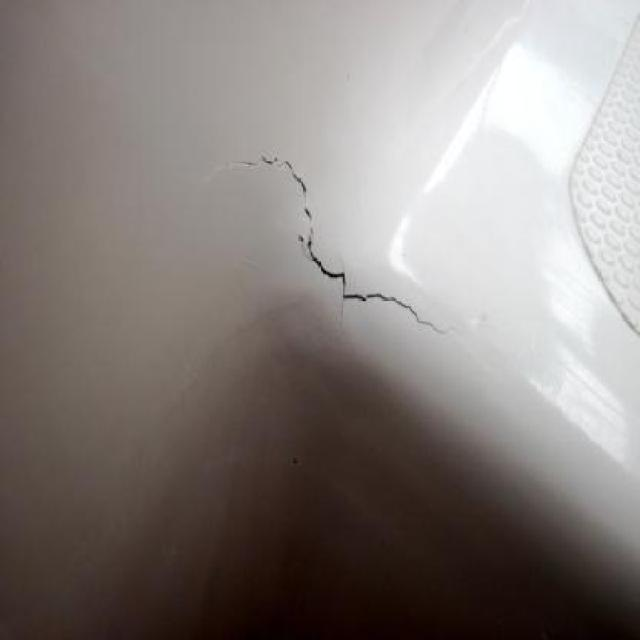crack: (193, 152, 477, 340)
